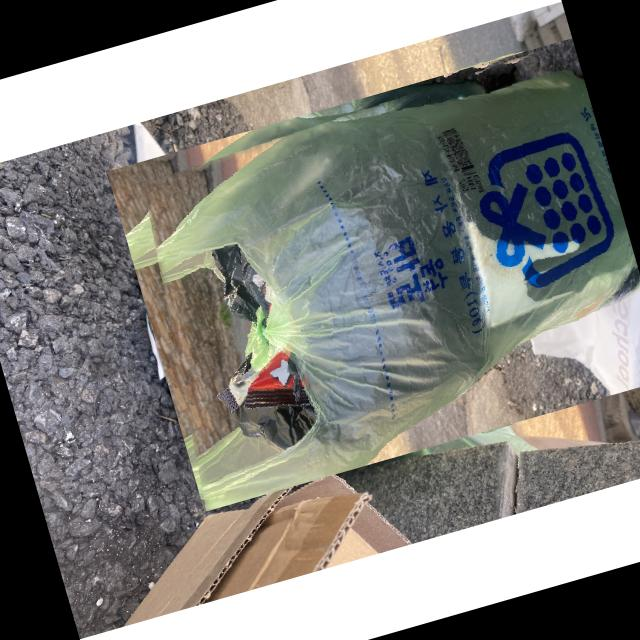general_trashbag: (148, 72, 640, 511)
